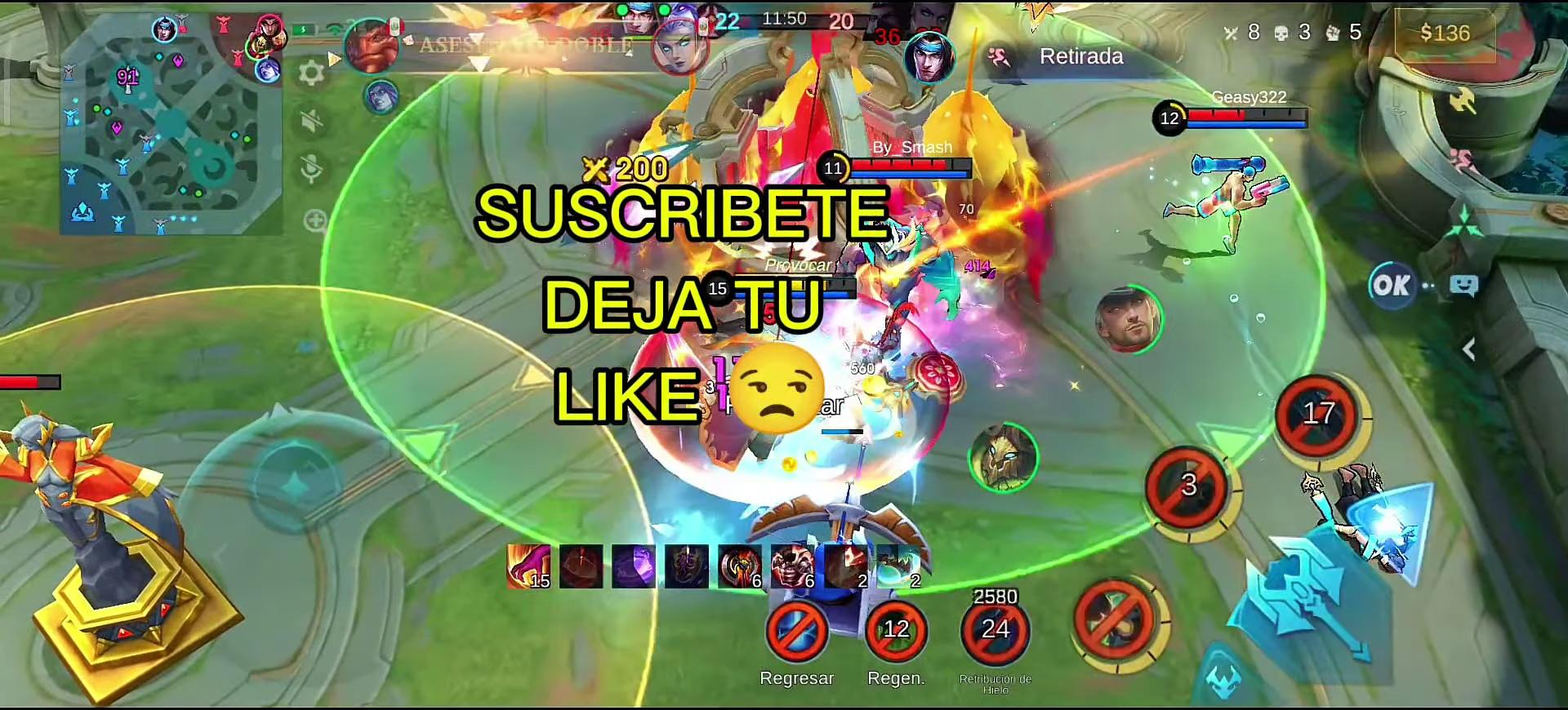Adc_Aliado: (257, 58, 282, 83)
Adc_Enemigo: (268, 30, 289, 51)
Belerick: (847, 222, 965, 360)
Clint: (1158, 147, 1298, 257)
Exp_Aliado: (149, 18, 176, 43)
Exp_Enemigo: (259, 15, 282, 38)
HP_Enemigo: (1187, 109, 1307, 121), (850, 159, 969, 170)
Jungla_Aliado: (244, 38, 262, 62)
Mana: (851, 166, 973, 181), (1181, 121, 1308, 130)
Minimapa: (58, 15, 285, 233)
Nexo_Enemigo: (615, 43, 941, 269)
Roamer_Enemigo: (251, 32, 272, 55)
Torre_Enemiga: (0, 397, 229, 654)
